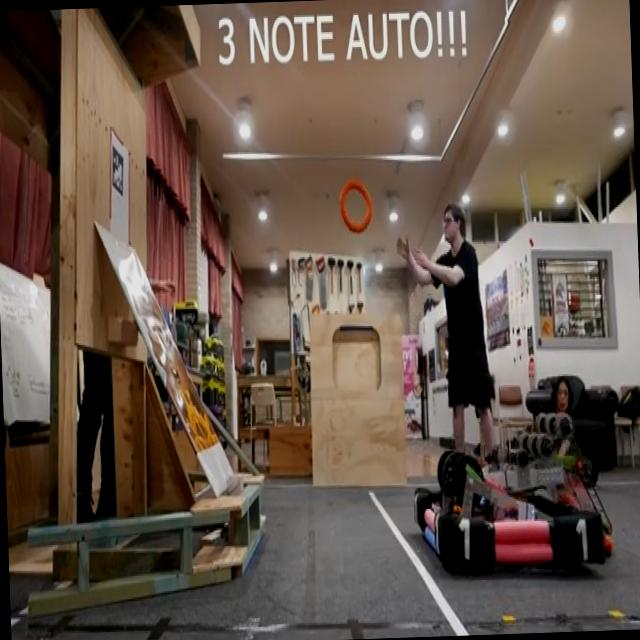note: (336, 174, 379, 240)
